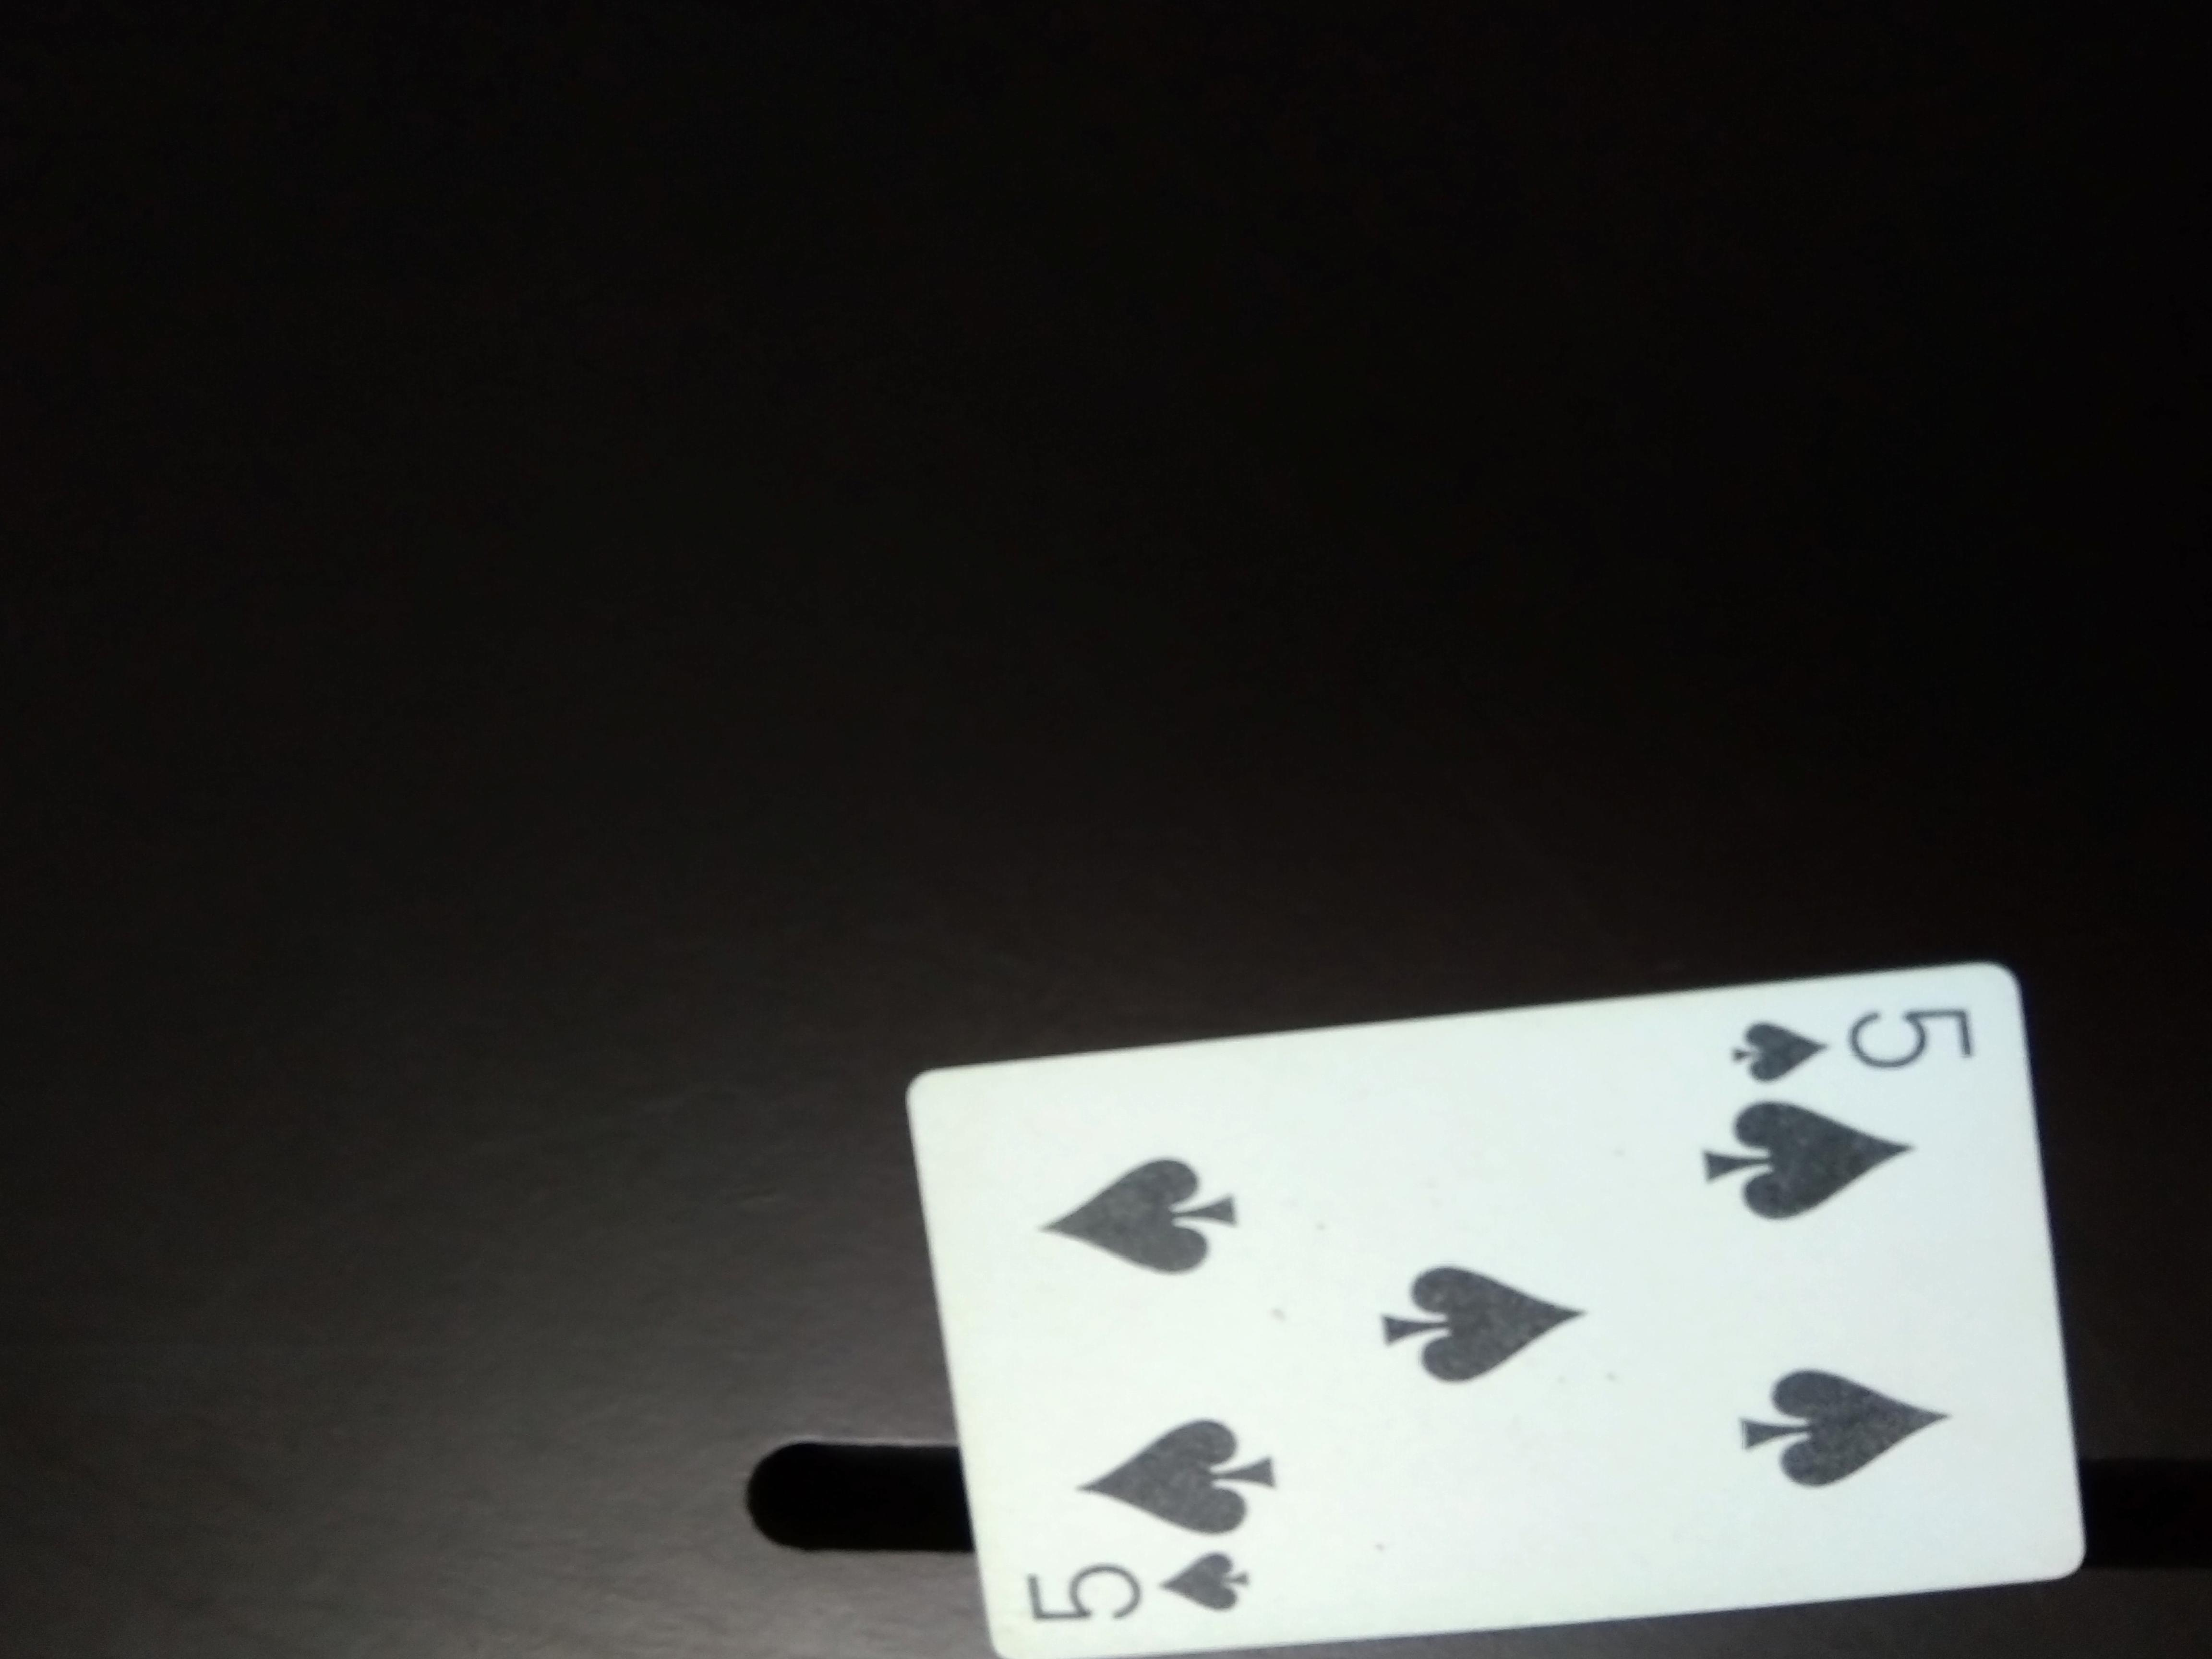5S: (1731, 1002, 2001, 1070)
